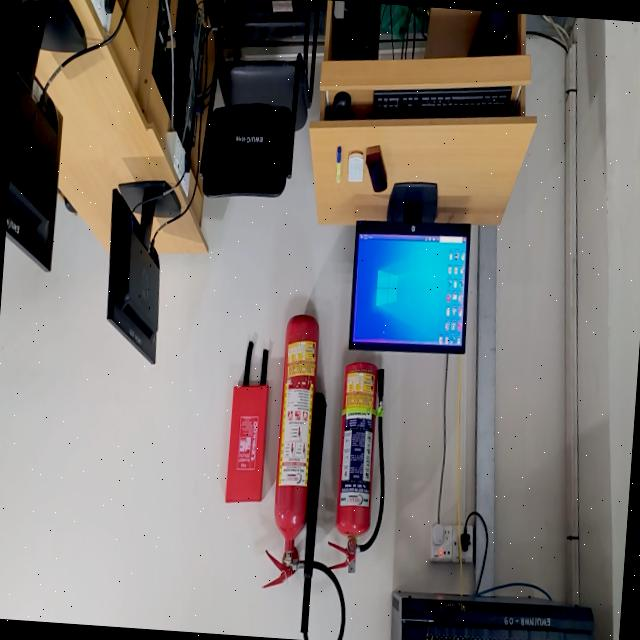Chair: (202, 31, 309, 197)
Cpu: (174, 0, 202, 154), (332, 0, 381, 58), (152, 51, 171, 113)
Fire Extinguisher: (264, 315, 319, 587), (328, 362, 378, 573)
Monitor: (5, 0, 85, 271), (348, 183, 471, 353), (107, 182, 179, 363)
